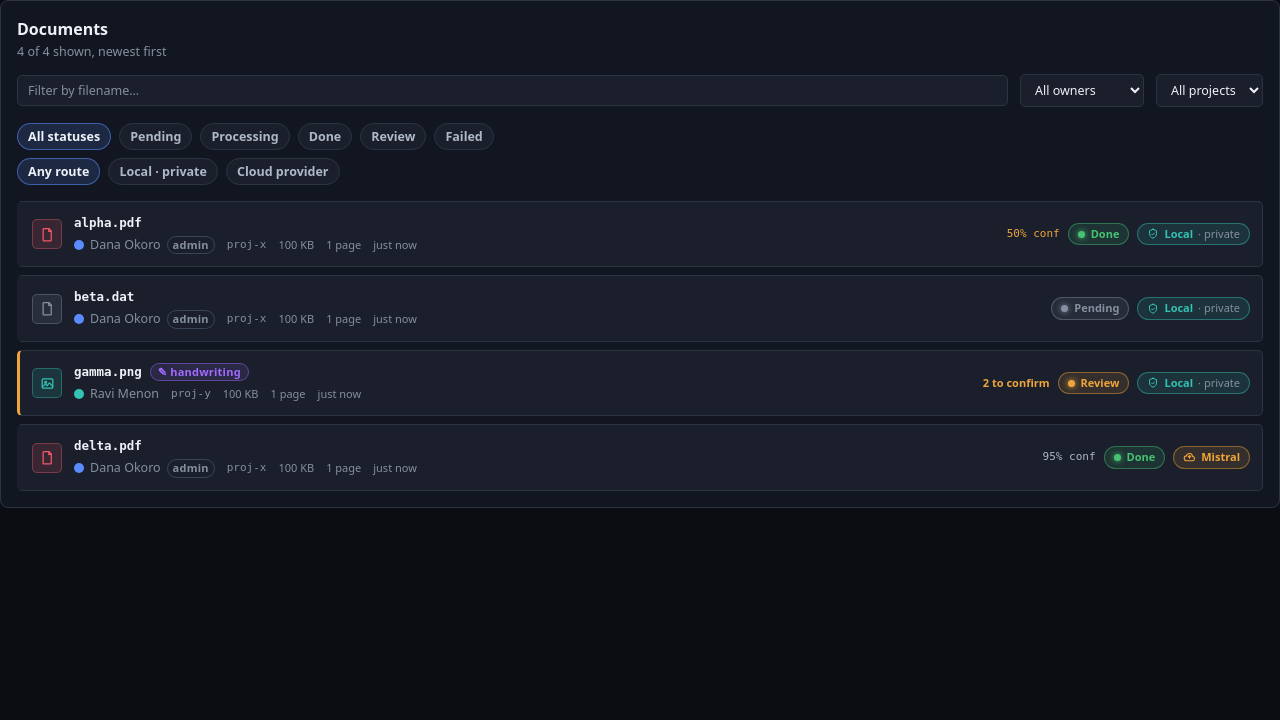
Scenario: DocumentList — filters › filters by status and by local route
This screenshot has width=1280, height=720.
Click the button "Done" at (325, 136), box [298, 123, 352, 150]
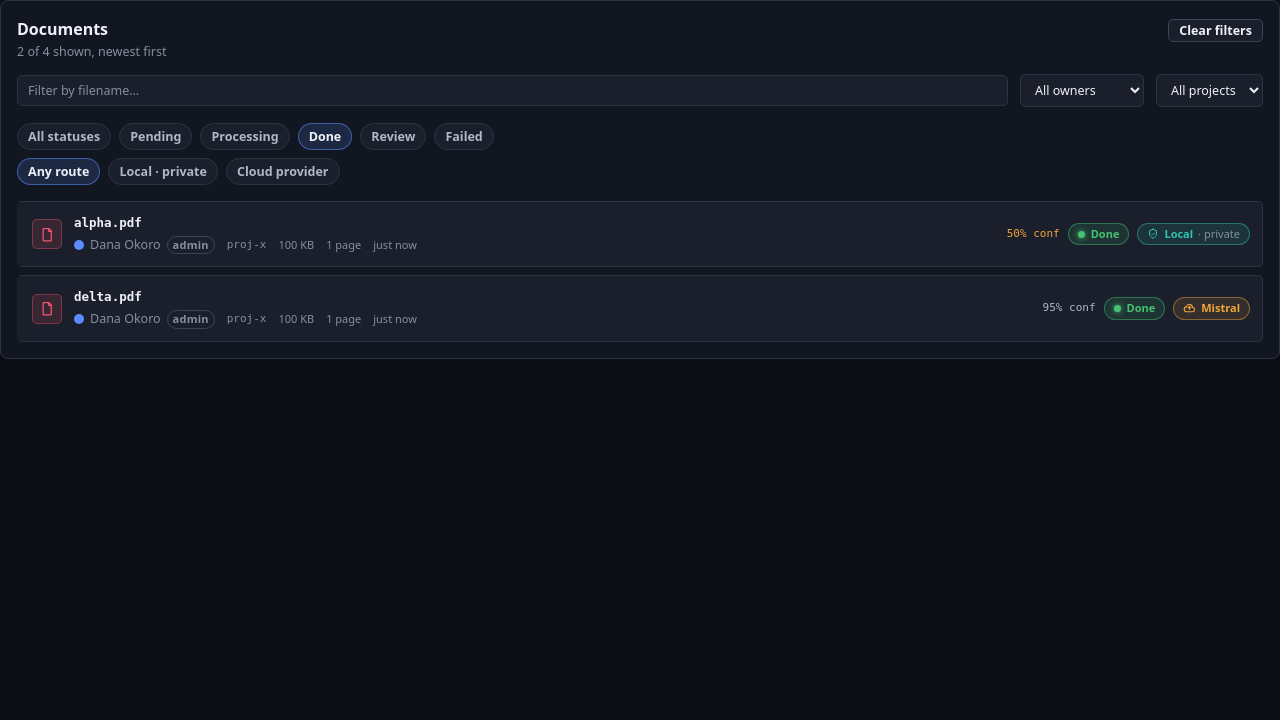
expect the text "2 of 4 shown, newest first" is shown: met, box [17, 43, 166, 62]
Click the button "All statuses" at (64, 136), box [17, 123, 111, 150]
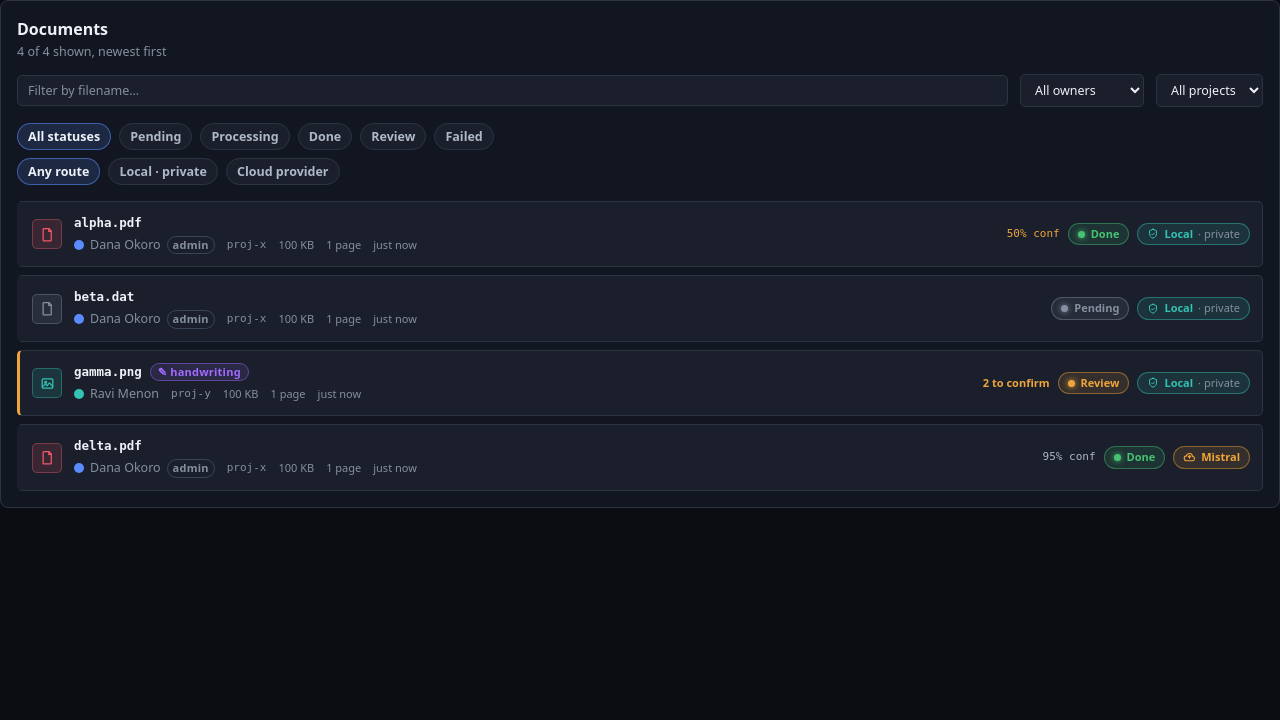
Click the button "Local · private" at (163, 171), box [108, 158, 218, 185]
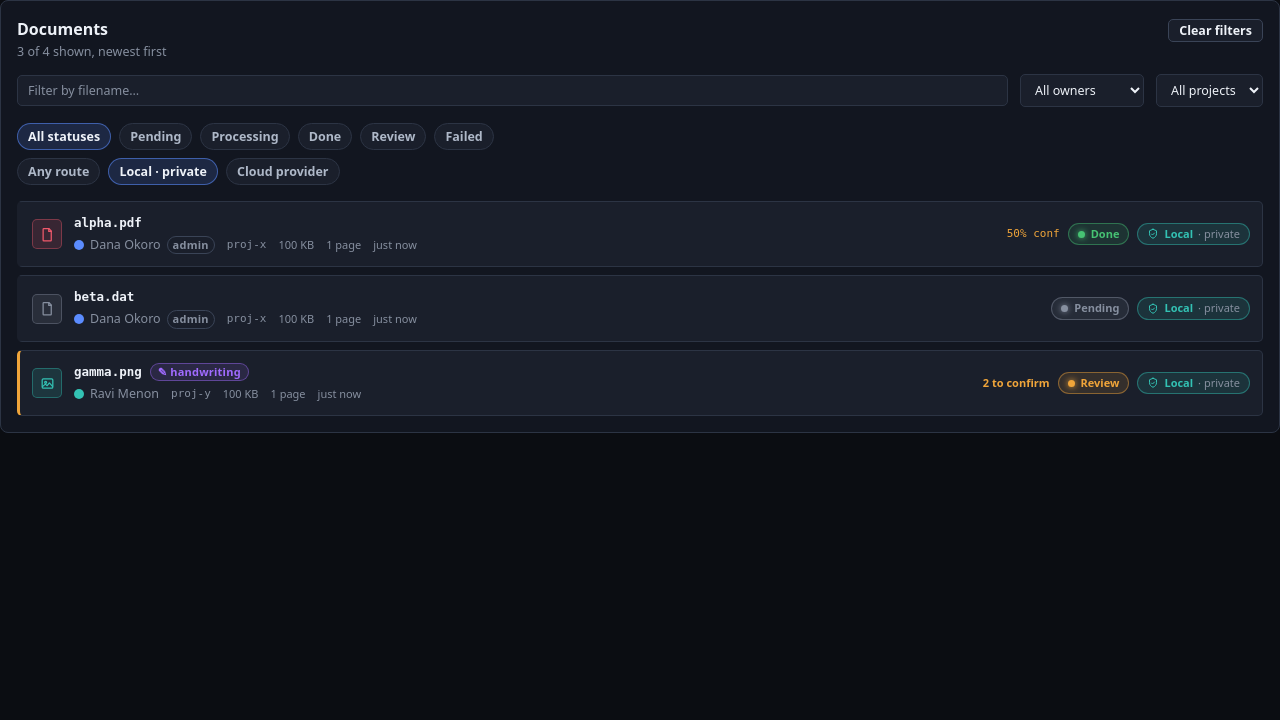
expect the text "3 of 4 shown, newest first" is shown: met, box [17, 43, 166, 62]
